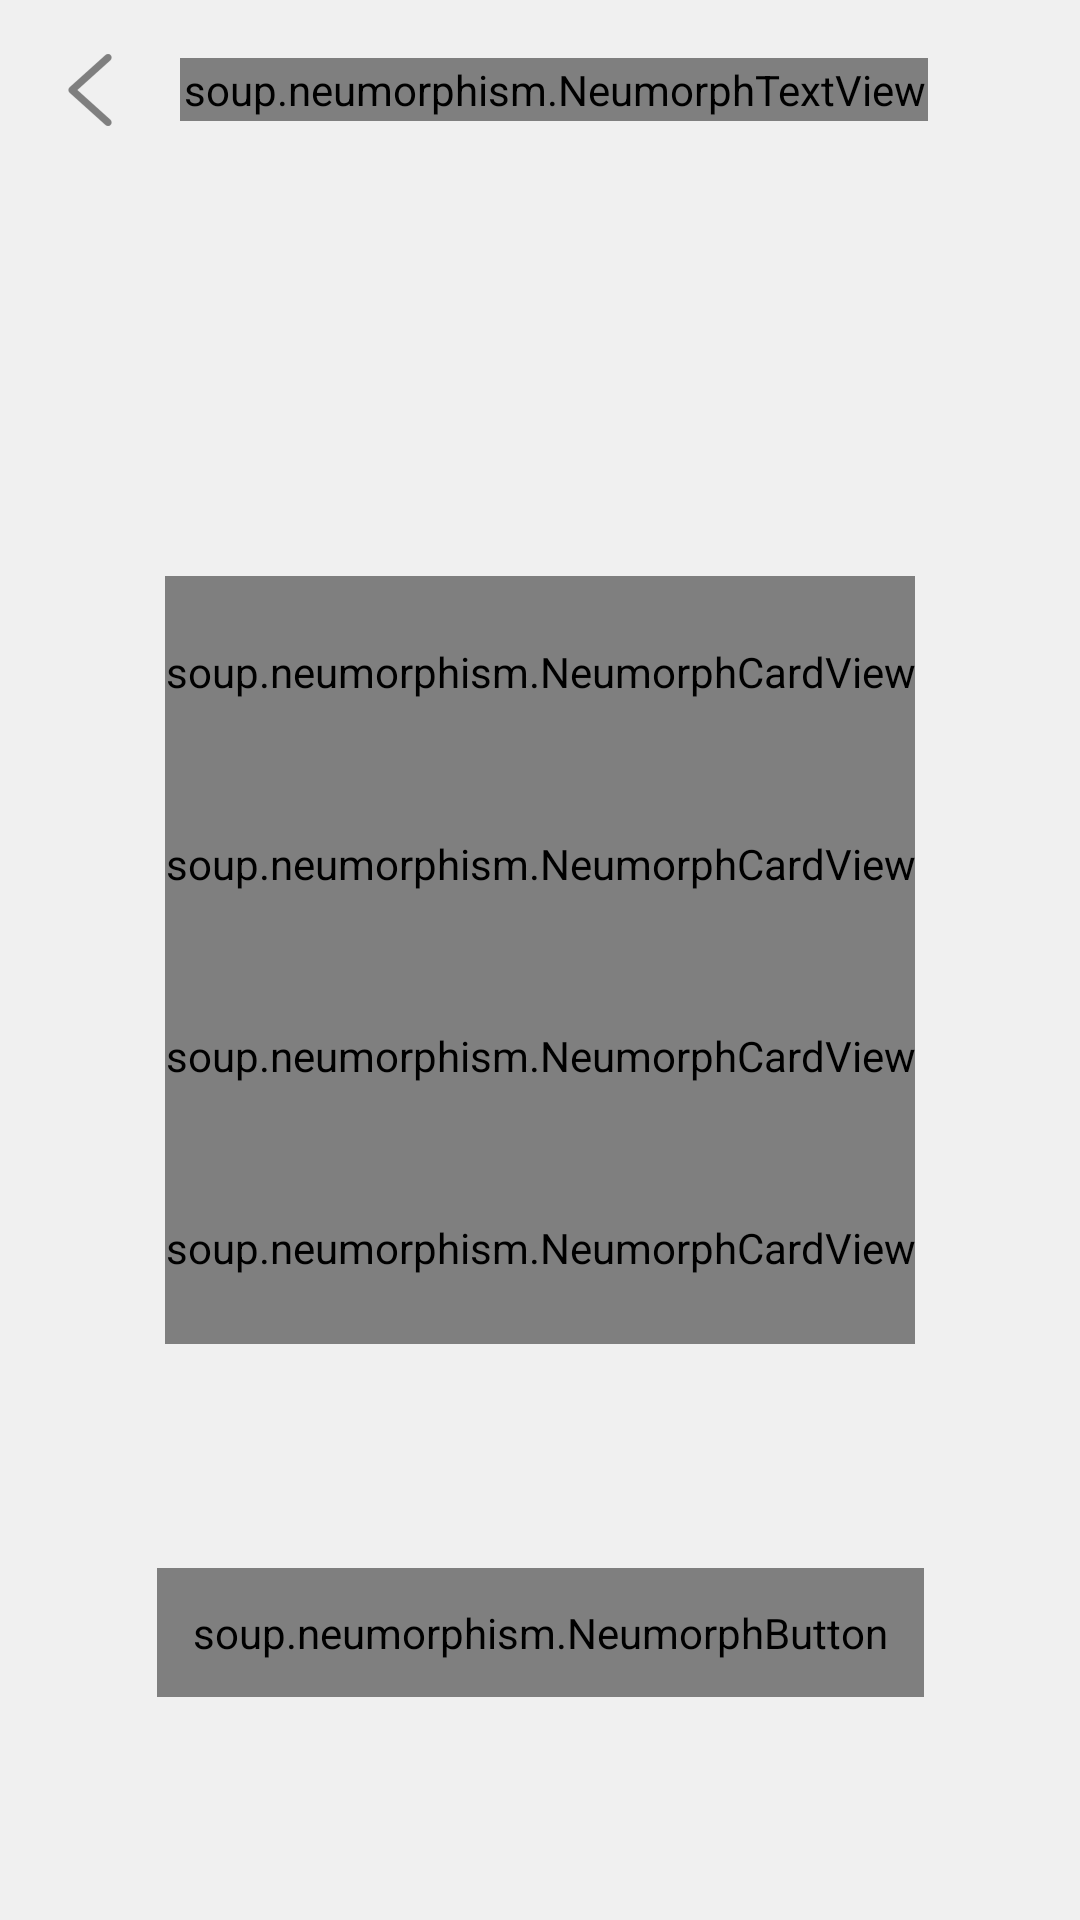

Where to tap for icons on this 1080px×1920px app screen, as point (x, y):
left arrow: point (90, 90)
